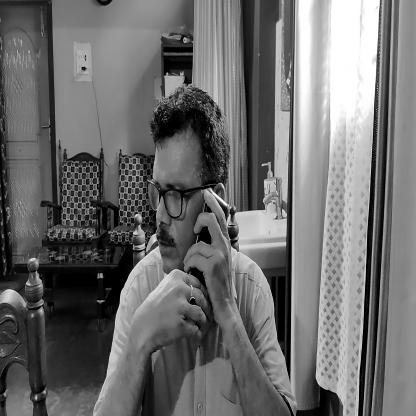Distracted: (147, 83, 224, 286)
